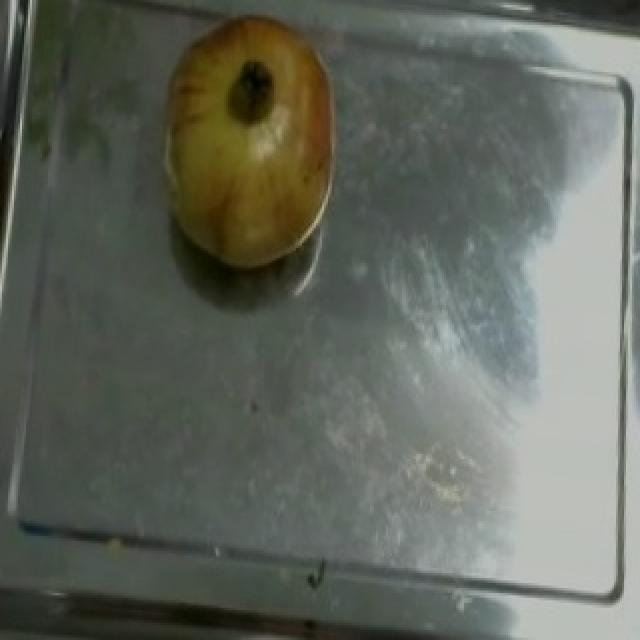fruit: (138, 0, 364, 278)
